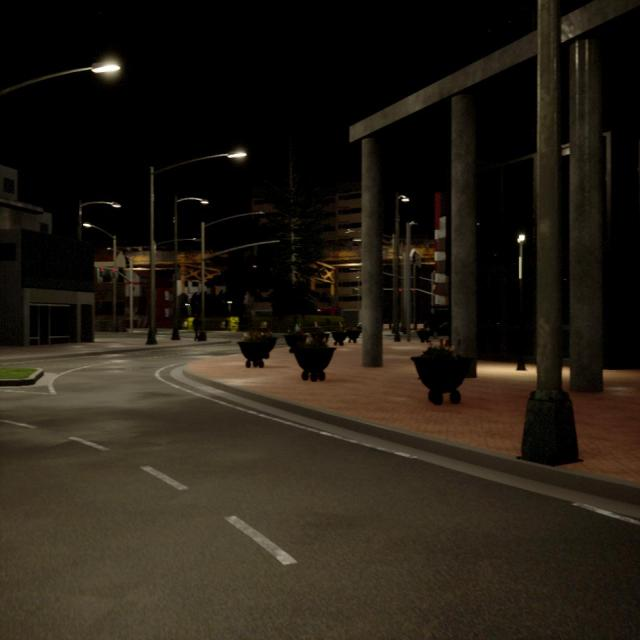Vehicle: (316, 308, 340, 316)
traffic_light: (398, 288, 402, 293), (100, 268, 104, 272), (112, 270, 116, 272)
